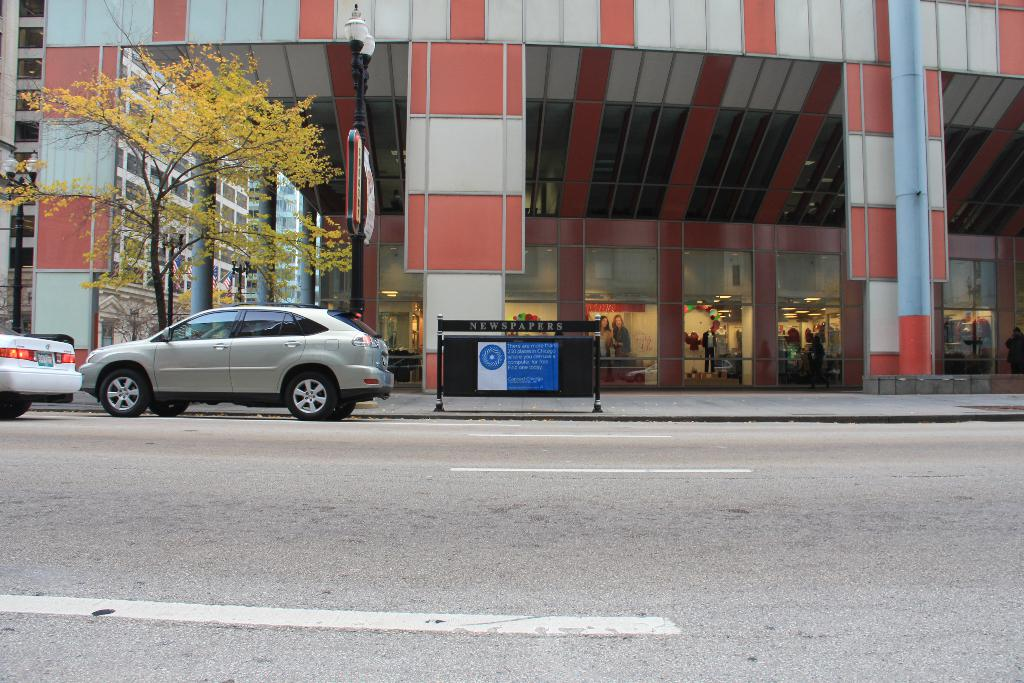Car: (74, 299, 396, 419), (0, 317, 81, 419)
